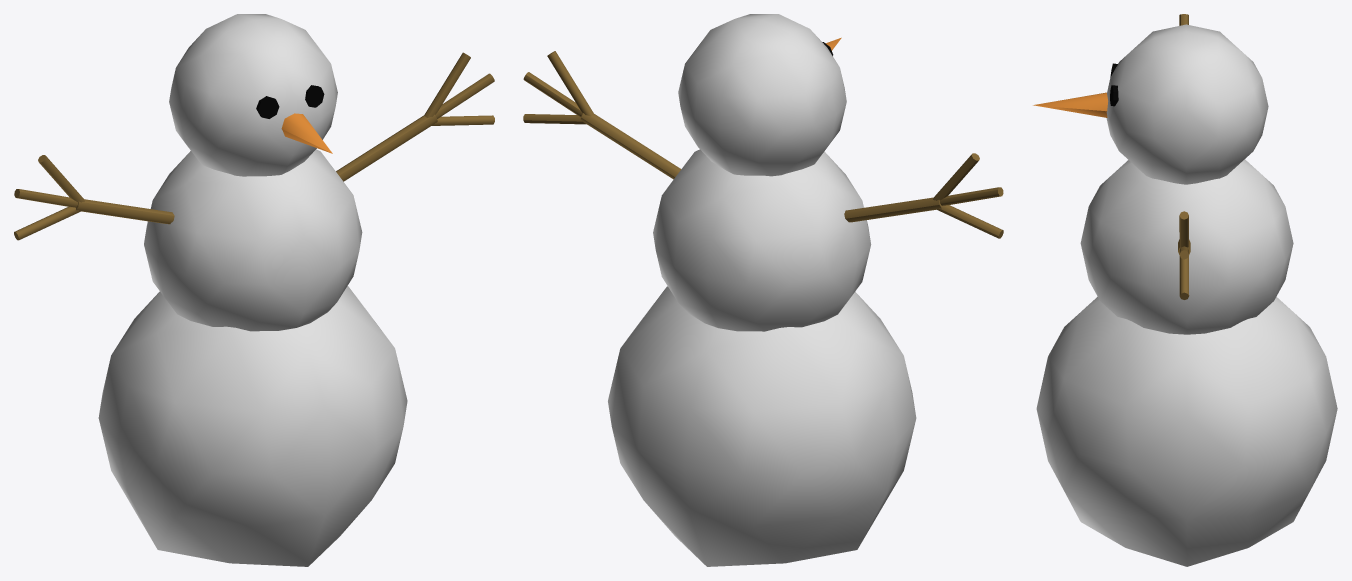
File: snowman 1.fbx
The picture shows the model from 3 angles, left to right: view 1: azimuth 30°, elevation 25°; view 2: azimuth 150°, elevation 25°; view 3: azimuth 270°, elevation 25°; orthographic projection. The views are drawn at different scales.
Visible parts, largest first — view 1: Object_6, Object_8, Object_7, Object_9; view 2: Object_6, Object_8; view 3: Object_6, Object_8, Object_7.
Part boxes in pixels (x1=…): Object_6: x1=98, y1=14, x2=407, y2=566; Object_8: x1=14, y1=52, x2=494, y2=240; Object_7: x1=281, y1=113, x2=332, y2=153; Object_9: x1=256, y1=85, x2=324, y2=118; Object_6: x1=608, y1=14, x2=916, y2=566; Object_8: x1=523, y1=51, x2=1003, y2=238; Object_6: x1=1036, y1=24, x2=1337, y2=566; Object_8: x1=1178, y1=14, x2=1190, y2=299; Object_7: x1=1033, y1=92, x2=1108, y2=117.
Bounding box in the file's own units: 3447 × 3493 × 1973.
